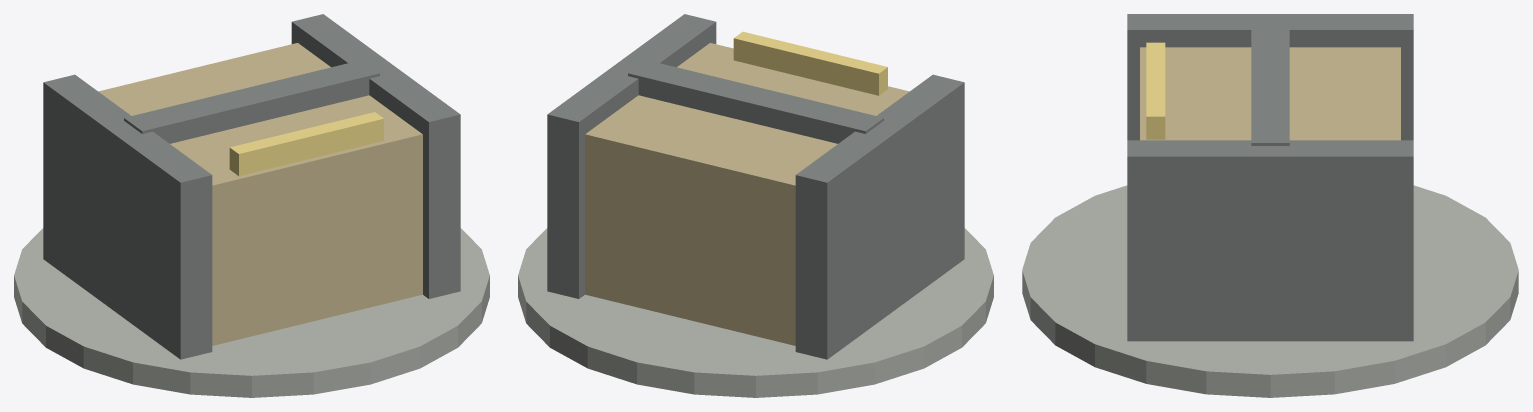
File: supply_crate_node.glb
3 views of the same model, side by side, from view 1: azimuth 30°, elevation 25°; view 2: azimuth 150°, elevation 25°; view 3: azimuth 270°, elevation 25° (orthographic). The views are drawn at different scales.
Parts seen in each view (by area): view 1: crate_body, left_band, footprint, right_band, top_band, label; view 2: crate_body, left_band, footprint, right_band, top_band, label; view 3: right_band, footprint, crate_body, left_band, top_band, label.
Boxes of the visible parts, <box> form: crate_body: <box>98,43,422,345</box>; left_band: <box>43,74,212,359</box>; footprint: <box>14,228,489,397</box>; right_band: <box>291,14,460,298</box>; top_band: <box>124,60,379,143</box>; label: <box>229,112,383,175</box>; crate_body: <box>585,43,909,345</box>; left_band: <box>795,74,964,359</box>; footprint: <box>518,228,993,397</box>; right_band: <box>547,14,716,298</box>; top_band: <box>628,60,883,143</box>; label: <box>733,31,887,95</box>; right_band: <box>1127,140,1413,341</box>; footprint: <box>1022,185,1518,397</box>; crate_body: <box>1140,47,1400,140</box>; left_band: <box>1127,14,1413,140</box>; top_band: <box>1251,22,1289,145</box>; label: <box>1146,42,1165,139</box>.
Size of the model in its own units: 1.56 by 0.74 by 1.56.
